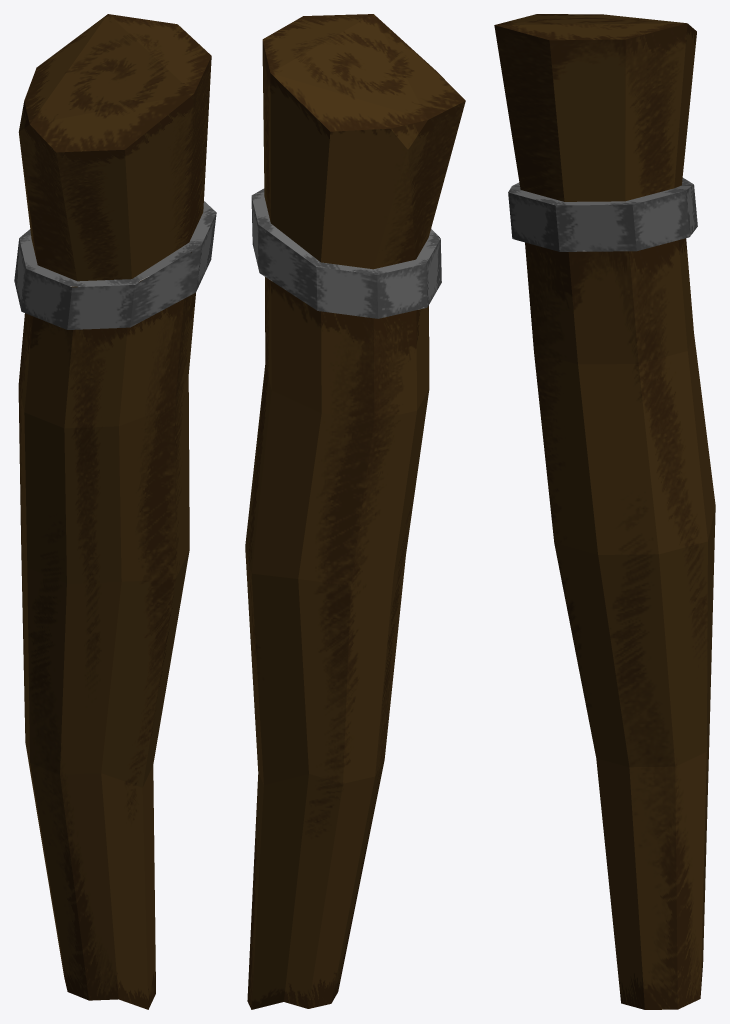
The model's file is torche_avec-path_of-matches.fbx.
3 renders of one model, left to right at view 1: azimuth 30°, elevation 25°; view 2: azimuth 150°, elevation 25°; view 3: azimuth 270°, elevation 25°, orthographic. The views are drawn at different scales.
Parts seen in each view (by area): view 1: Cylinder.010; view 2: Cylinder.010; view 3: Cylinder.010.
Boxes of the visible parts, box(x1,y1,x2,y2) form: Cylinder.010: box(14, 14, 216, 1009); Cylinder.010: box(245, 14, 465, 1009); Cylinder.010: box(494, 14, 715, 1009).
Size of the model in its own units: 28.85 by 155 by 31.73.
1 material, 1 textured.
